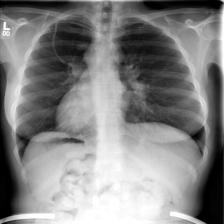normal: (12, 15, 208, 167)
